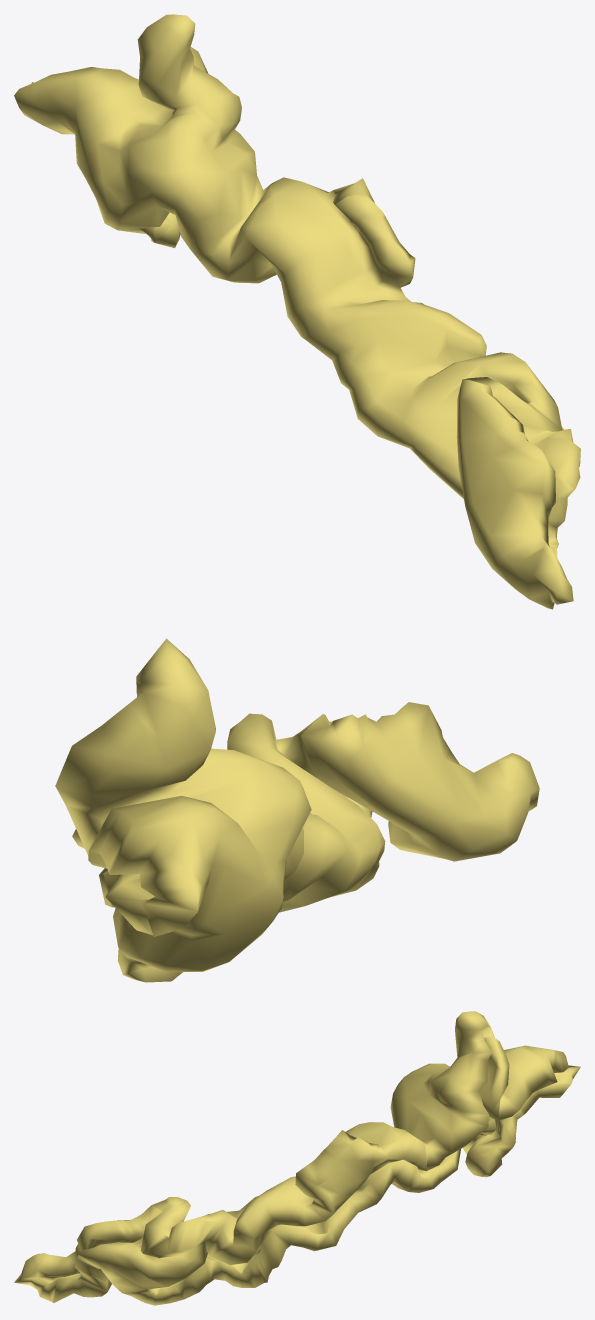
Rendered from superior-temporal-sulcus-l.glb.
3 views of the same model, one above another, from view 1: azimuth 30°, elevation 25°; view 2: azimuth 150°, elevation 25°; view 3: azimuth 270°, elevation 25° (orthographic). The views are drawn at different scales.
Parts seen in each view (by area): view 1: Superior temporal sulcus.l; view 2: Superior temporal sulcus.l; view 3: Superior temporal sulcus.l.
Part boxes in pixels (left/top/right/bottom): Superior temporal sulcus.l: left=14, top=14, right=580, bottom=609; Superior temporal sulcus.l: left=55, top=638, right=539, bottom=982; Superior temporal sulcus.l: left=14, top=1011, right=580, bottom=1305.
Size of the model in its own units: 0.0358 by 0.0515 by 0.0986.
